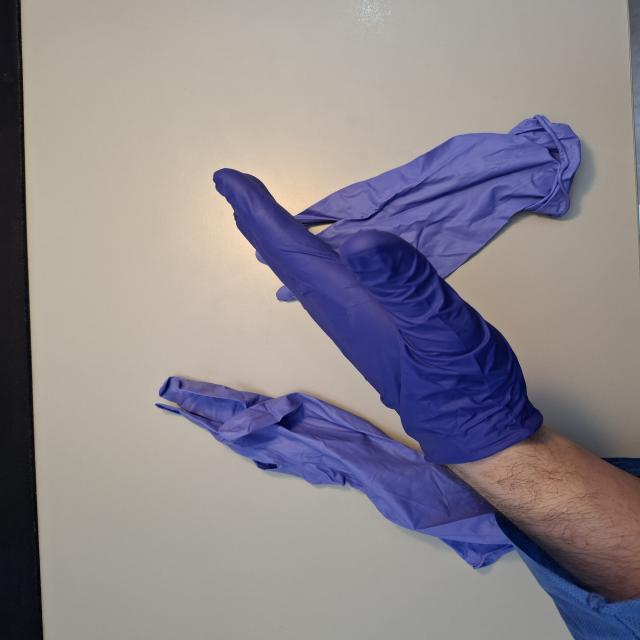glove_on: (212, 165, 548, 474)
